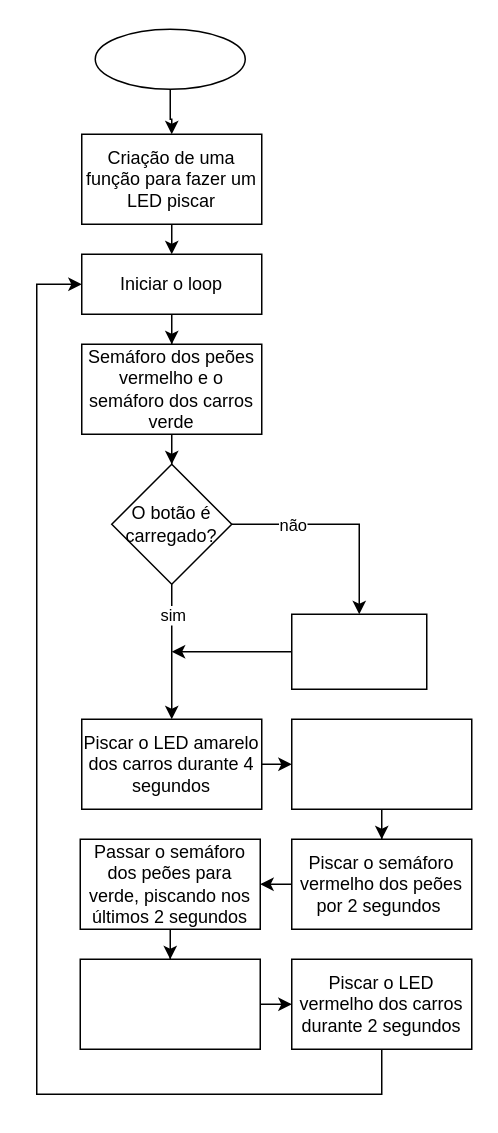
Image size: 498x1133. Some labels were removed from this diagram. The centre of each missing label's shape, as x and y in pixels:
Esperar 10 segundos: (x=358, y=651)
Início: (x=169, y=58)
Passar o semáforo dos carros para vermelho: (x=381, y=763)
Passar o semáforo dos peões para vermelho: (x=169, y=1003)
